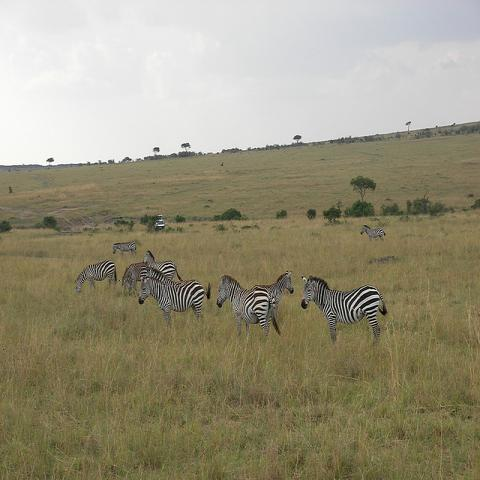truck: (154, 214, 165, 228)
